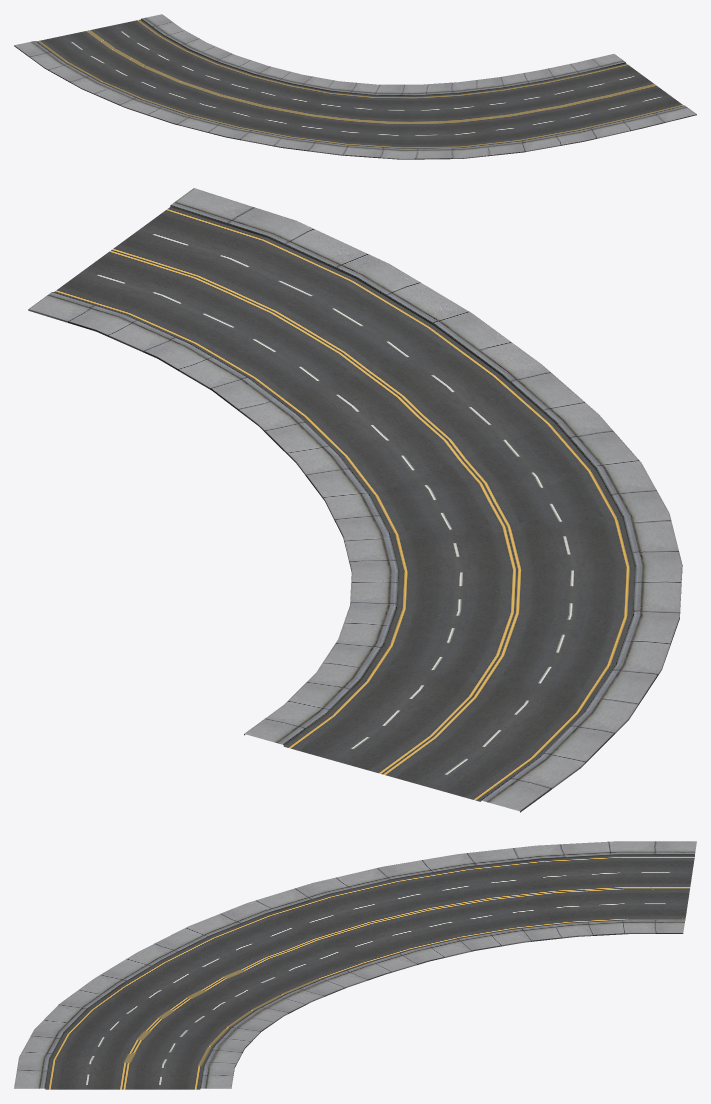
The model's file is road13.glb.
The picture shows the model from 3 angles, top to bottom: view 1: azimuth 30°, elevation 25°; view 2: azimuth 150°, elevation 25°; view 3: azimuth 270°, elevation 25°; orthographic projection. The views are drawn at different scales.
Visible parts, largest first — view 1: ro_13; view 2: ro_13; view 3: ro_13.
Part boxes in pixels (left/top/right/bottom): ro_13: left=14, top=14, right=696, bottom=159; ro_13: left=28, top=188, right=682, bottom=812; ro_13: left=14, top=841, right=696, bottom=1089.
Bounding box in the file's own units: 89.5 × 3.83 × 95.31.
Materials: 1 (1 with a texture image).
